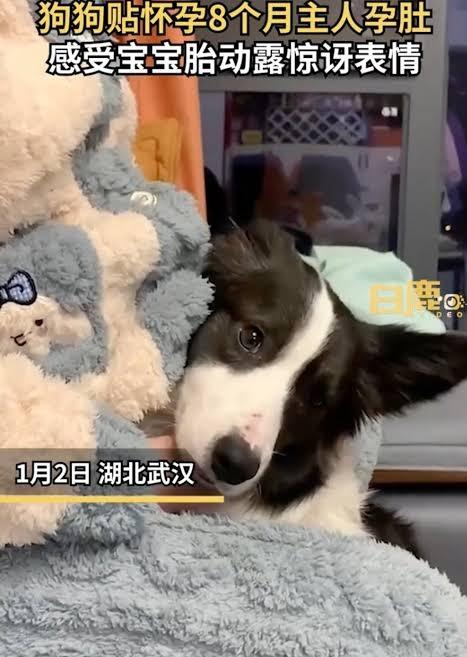adult_dog: (174, 225, 467, 567)
